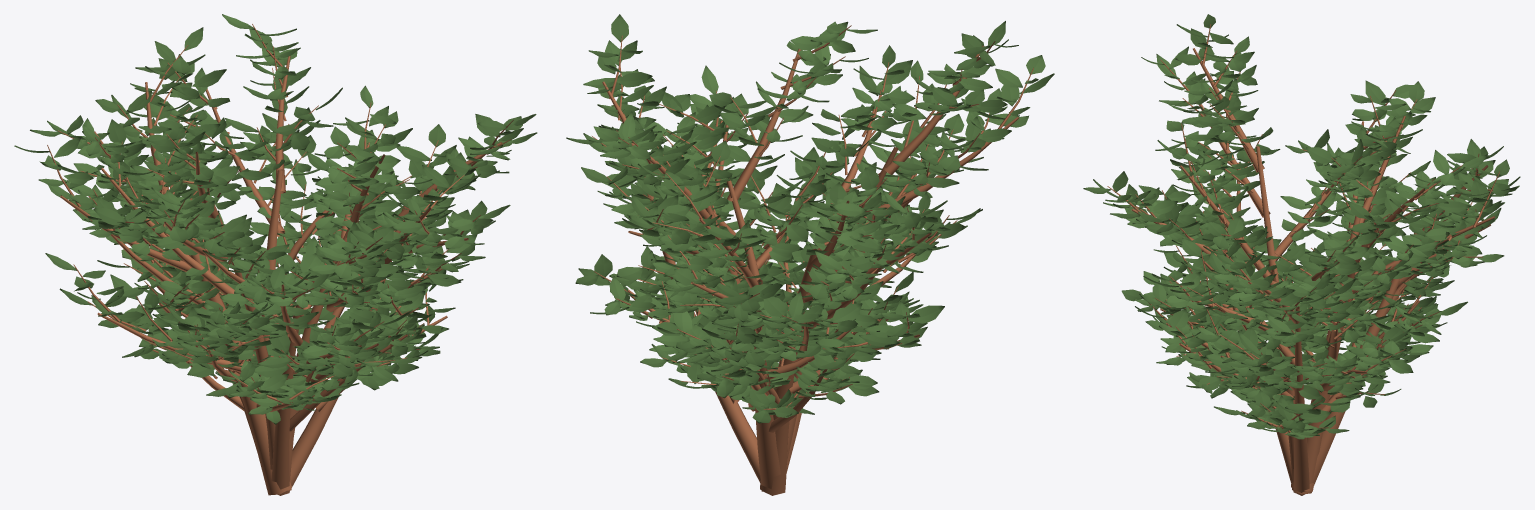
The model's file is Arbousier_1_High.fbx.
3 renders of one model, left to right at view 1: azimuth 30°, elevation 25°; view 2: azimuth 150°, elevation 25°; view 3: azimuth 270°, elevation 25°, orthographic. The views are drawn at different scales.
Visible parts, largest first — view 1: Arbousier_1_High; view 2: Arbousier_1_High; view 3: Arbousier_1_High.
Part boxes in pixels (box(x1,y1,x2,y2)): Arbousier_1_High: box(14, 14, 537, 495); Arbousier_1_High: box(566, 14, 1054, 495); Arbousier_1_High: box(1083, 14, 1520, 495).
Size of the model in its own units: 266 by 272 by 269.
